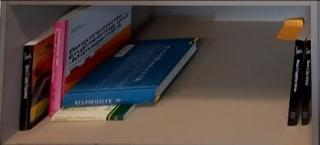book-spine: (61, 88, 158, 107), (49, 20, 67, 118), (287, 39, 305, 126), (18, 44, 34, 132), (301, 40, 312, 126), (50, 116, 124, 122)
